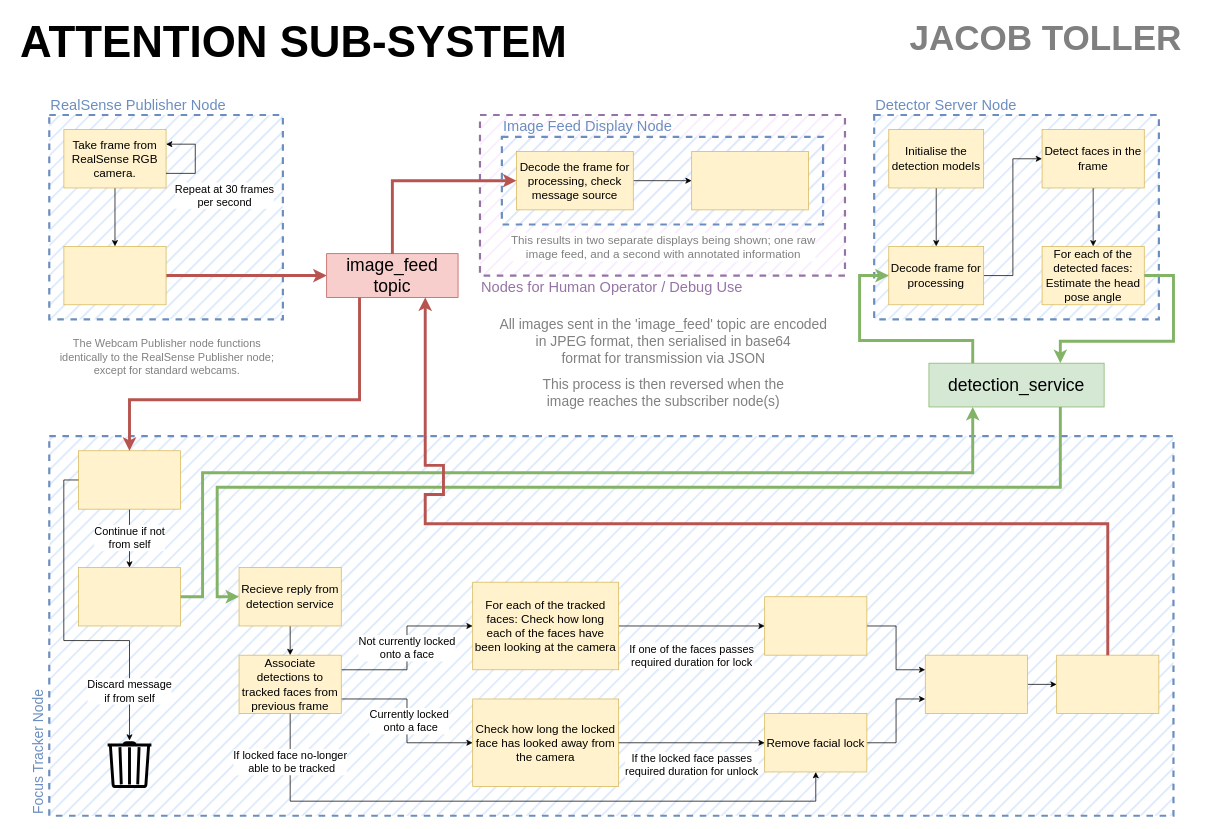
This 1207x829 diagram has some shape labels left out. Here are the shapes that lost their labels. From the top down, the box of each, then its label:
(691, 151, 808, 210): Display the frame to a window, per unique source
(63, 246, 166, 305): Encode frame for JSON serialisation
(78, 450, 181, 509): Check that the message didn't come from itself
(78, 567, 181, 626): Send request to detection service
(764, 596, 867, 655): Lock onto face looking at camera
(925, 654, 1027, 714): Draw bounding boxes & lock-on information ontop of frame
(1056, 654, 1159, 714): Encode annotated frame for JSON
